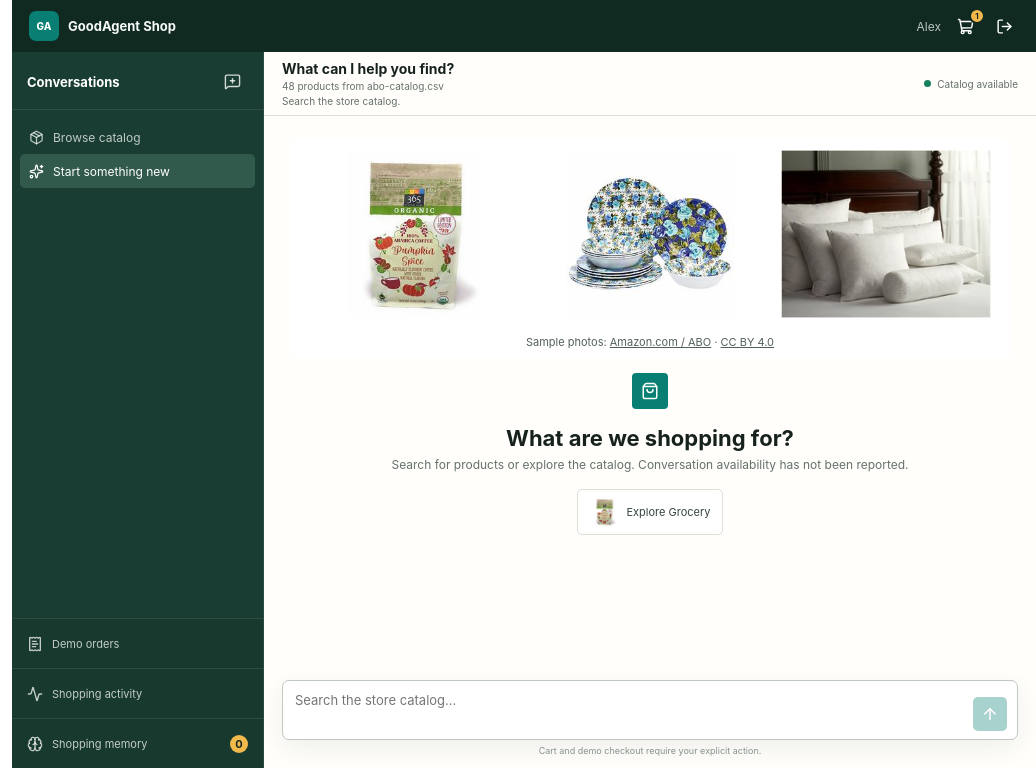
ShopperApp › hides cached account data and offers recovery after a runtime 401
Expected: the button named "Open cart with 1 items" is shown, [950, 11, 980, 41]
In the text box named "Shopping request": (628, 710) [291, 689, 965, 731], type "My private unsent question"
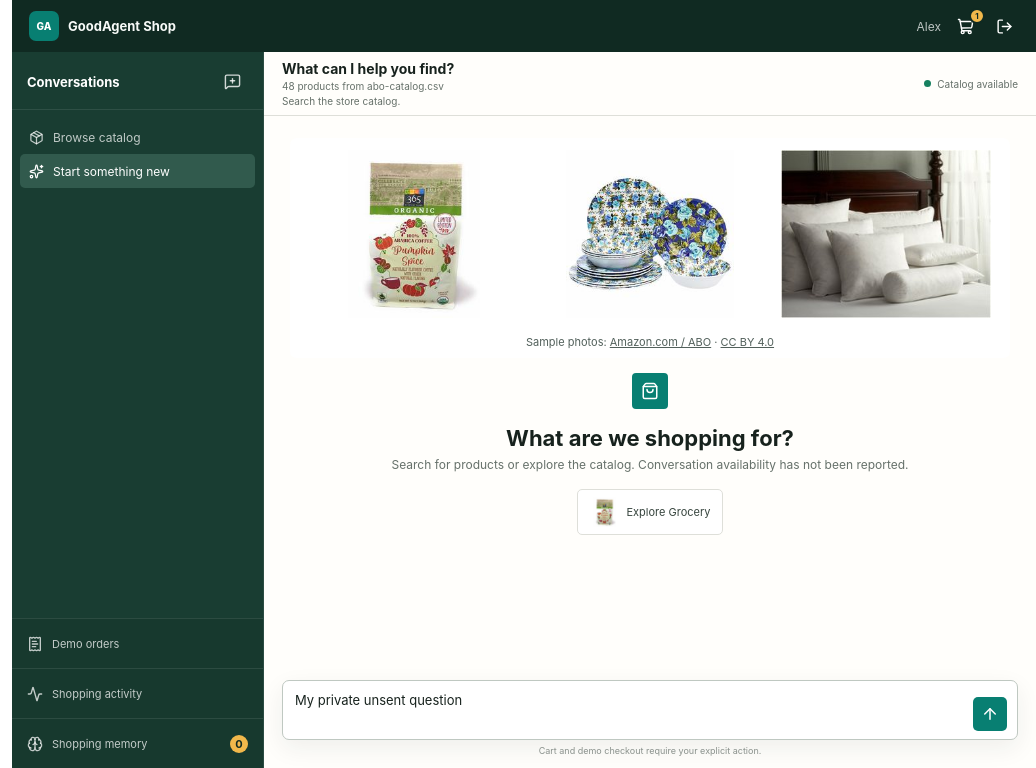
Click the button named "Send request": (990, 714) [973, 697, 1007, 731]
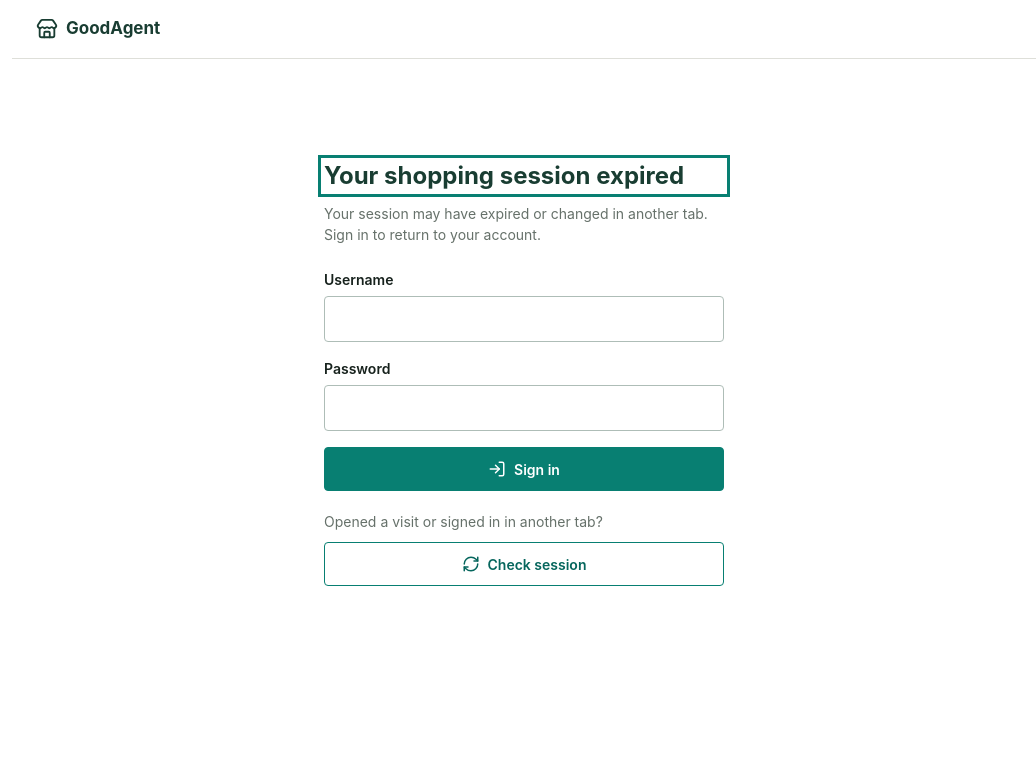
Now the heading "Your shopping session expired" is shown, box [324, 161, 724, 191]
Now the text "Alex" is gone
Now the button "Open cart" is gone
